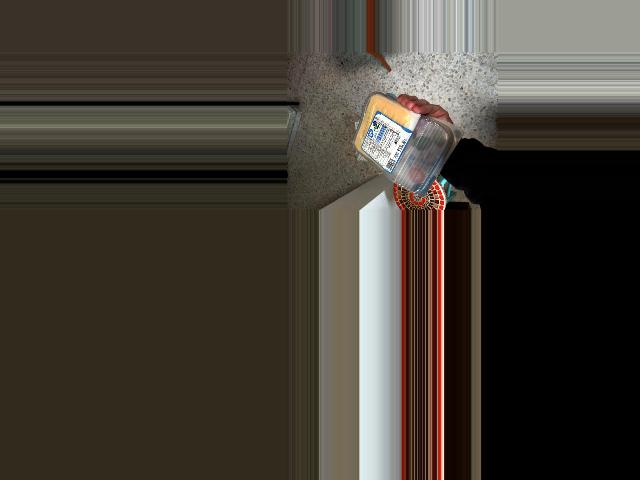cheese: (349, 106, 447, 193)
